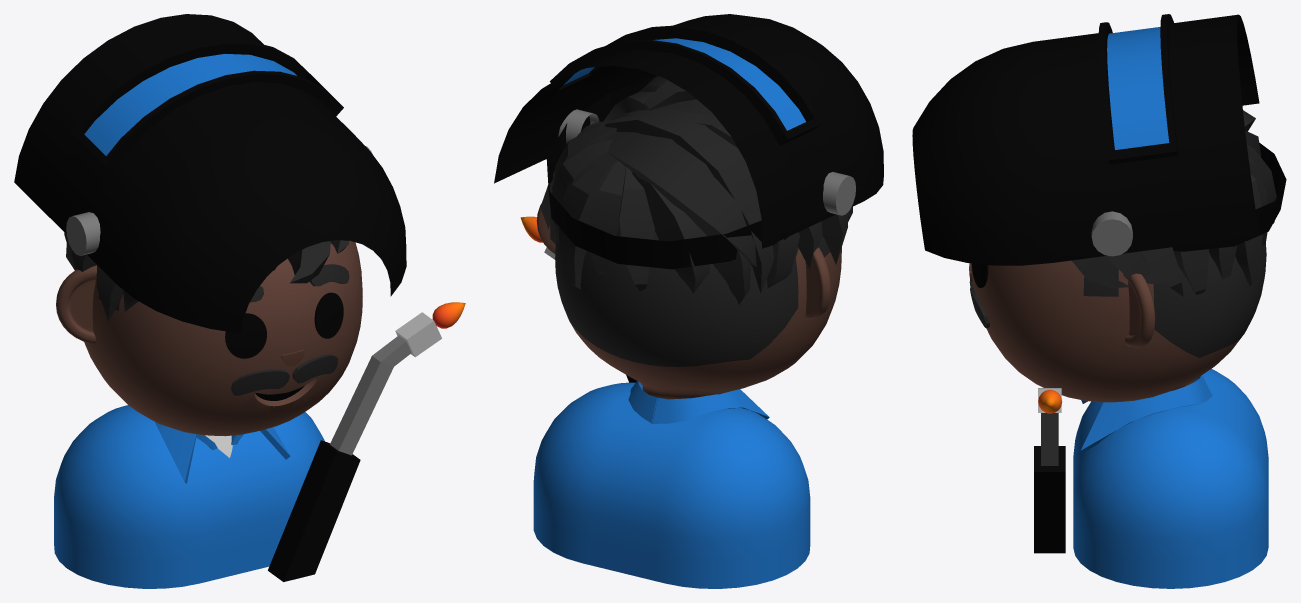
File: man_factory_worker.glb
3 renders of one model, left to right at view 1: azimuth 30°, elevation 25°; view 2: azimuth 150°, elevation 25°; view 3: azimuth 270°, elevation 25°, orthographic.
Visible parts, largest first — view 1: Sphere.065, Sphere.064, Roundcube.105, Cube.1302, Cube.1289, Circle.640, Cylinder.092, Circle.646, Plane.051, Circle.645, Circle.643, Sphere.066; view 2: Sphere.064, Sphere.065, Cube.1289, Roundcube.105, Circle.644, Plane.051, Circle.645, Cylinder.092; view 3: Sphere.065, Sphere.064, Roundcube.105, Cube.1289, Cube.1302, Plane.051, Circle.644, Cylinder.092, Circle.645.
Boxes of the visible parts, x1,y1,x2,y2 form: Sphere.065: (14, 14, 406, 333); Sphere.064: (54, 405, 324, 588); Roundcube.105: (84, 241, 362, 436); Cube.1302: (268, 312, 441, 581); Cube.1289: (64, 232, 349, 321); Circle.640: (225, 292, 343, 358); Cylinder.092: (56, 265, 96, 343); Circle.646: (231, 354, 337, 395); Plane.051: (155, 422, 290, 483); Circle.645: (66, 146, 372, 255); Circle.643: (250, 264, 349, 302); Sphere.066: (432, 302, 465, 328); Sphere.064: (533, 382, 810, 588); Sphere.065: (494, 14, 883, 248); Cube.1289: (540, 76, 852, 304); Roundcube.105: (555, 230, 841, 399); Circle.644: (546, 75, 788, 269); Plane.051: (628, 381, 769, 424); Circle.645: (558, 109, 855, 215); Cylinder.092: (536, 203, 830, 318); Sphere.065: (912, 14, 1259, 265); Sphere.064: (1073, 369, 1268, 588); Roundcube.105: (970, 243, 1266, 402); Cube.1289: (1071, 110, 1276, 296); Cube.1302: (1034, 388, 1065, 553); Plane.051: (1080, 375, 1212, 452); Circle.644: (1172, 143, 1286, 251); Cylinder.092: (1123, 273, 1155, 347); Circle.645: (1091, 211, 1132, 256).
Bounding box in the file's own units: 2.04 × 2.69 × 1.83.
2 materials, 2 textured.
